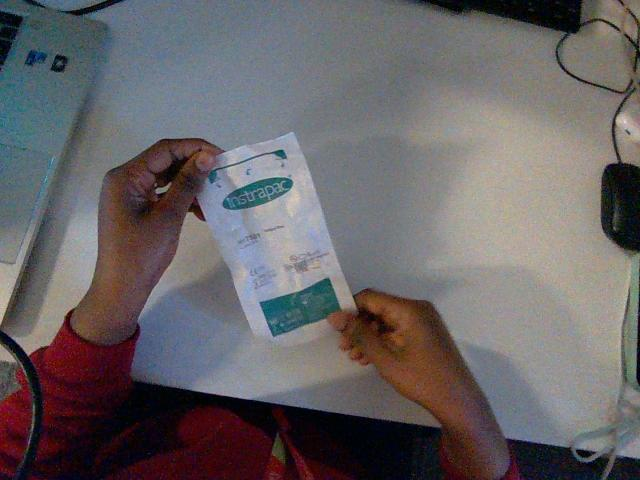gallipot: (198, 133, 355, 343)
